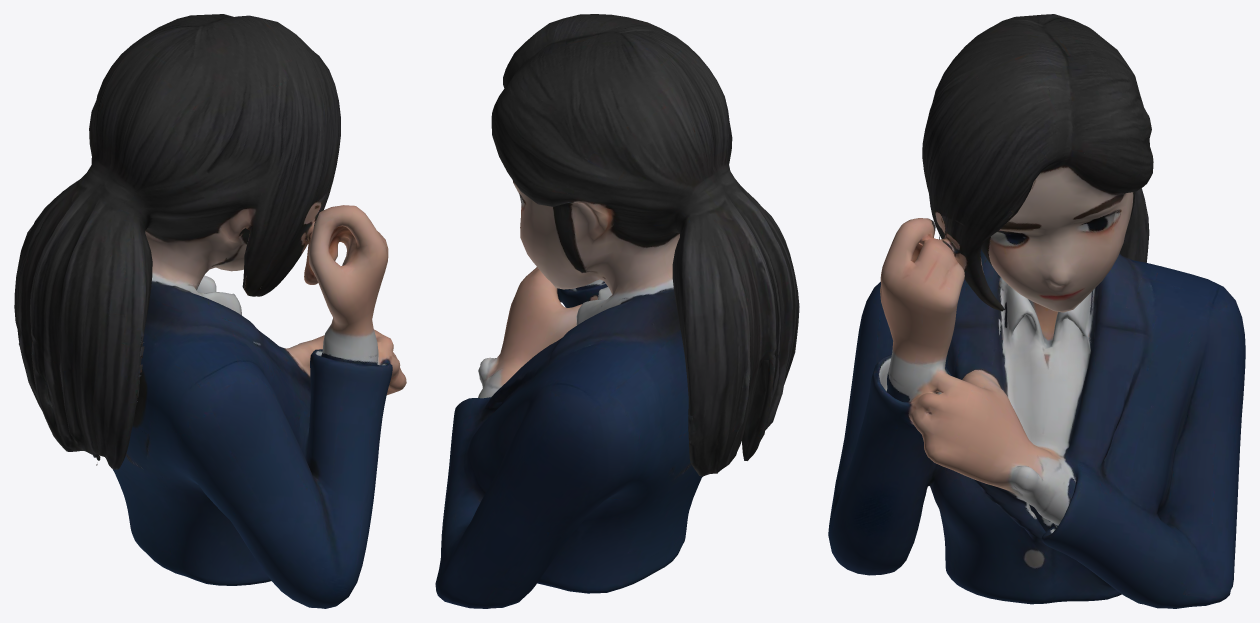
Rendered from suspect_2.glb.
3 renders of one model, left to right at view 1: azimuth 30°, elevation 25°; view 2: azimuth 150°, elevation 25°; view 3: azimuth 270°, elevation 25°, orthographic.
Parts seen in each view (by area): view 1: tripo_node_8c4e037f-fa10-4032-a69a-1e33e2d59c02; view 2: tripo_node_8c4e037f-fa10-4032-a69a-1e33e2d59c02; view 3: tripo_node_8c4e037f-fa10-4032-a69a-1e33e2d59c02.
Boxes of the visible parts, left/top/right/bottom form: tripo_node_8c4e037f-fa10-4032-a69a-1e33e2d59c02: left=14, top=14, right=406, bottom=608; tripo_node_8c4e037f-fa10-4032-a69a-1e33e2d59c02: left=435, top=14, right=799, bottom=608; tripo_node_8c4e037f-fa10-4032-a69a-1e33e2d59c02: left=828, top=14, right=1245, bottom=608.
Bounding box in the file's own units: 0.6279 × 0.9969 × 0.7069.
Materials: 1 (1 with a texture image).
